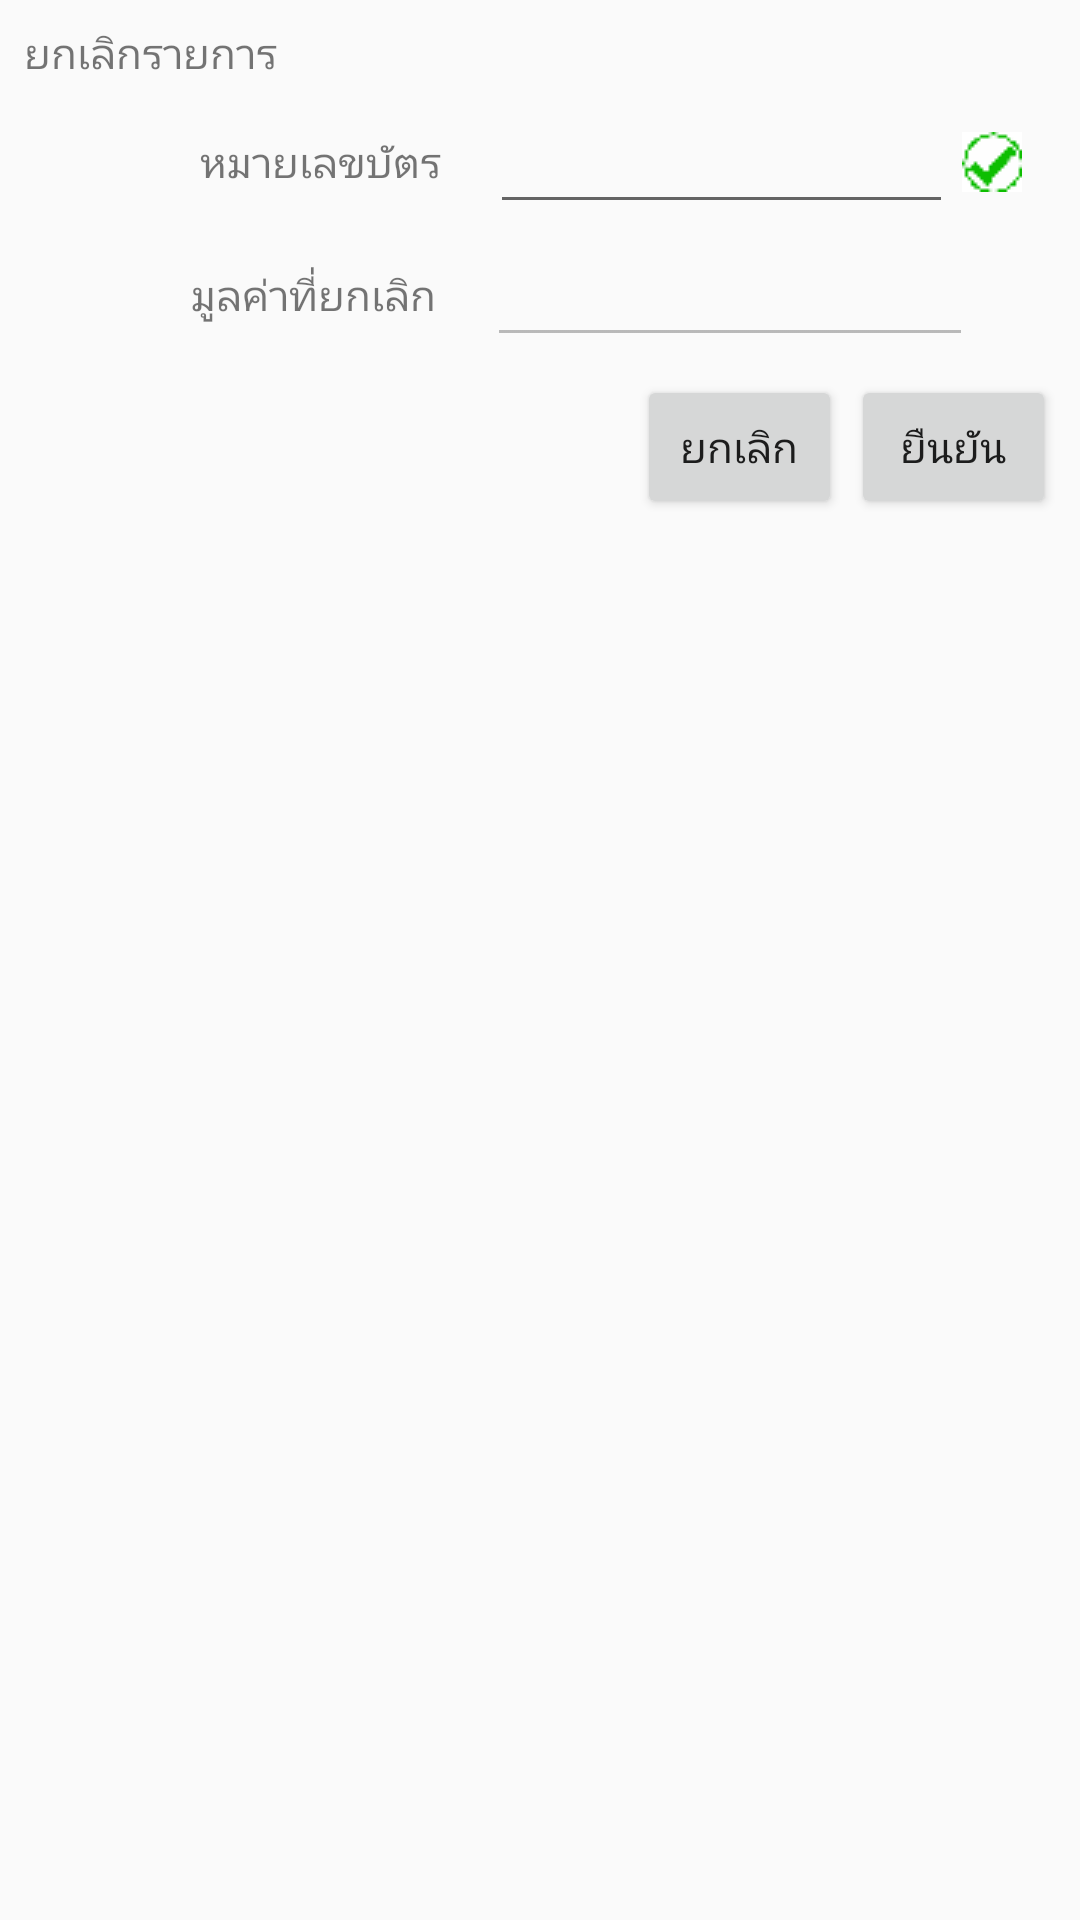

Named icons in this screenshot (1080 x 1920) and their bounding boxes, (x1, y1, x2, y2):
check: (962, 132, 1022, 192)
